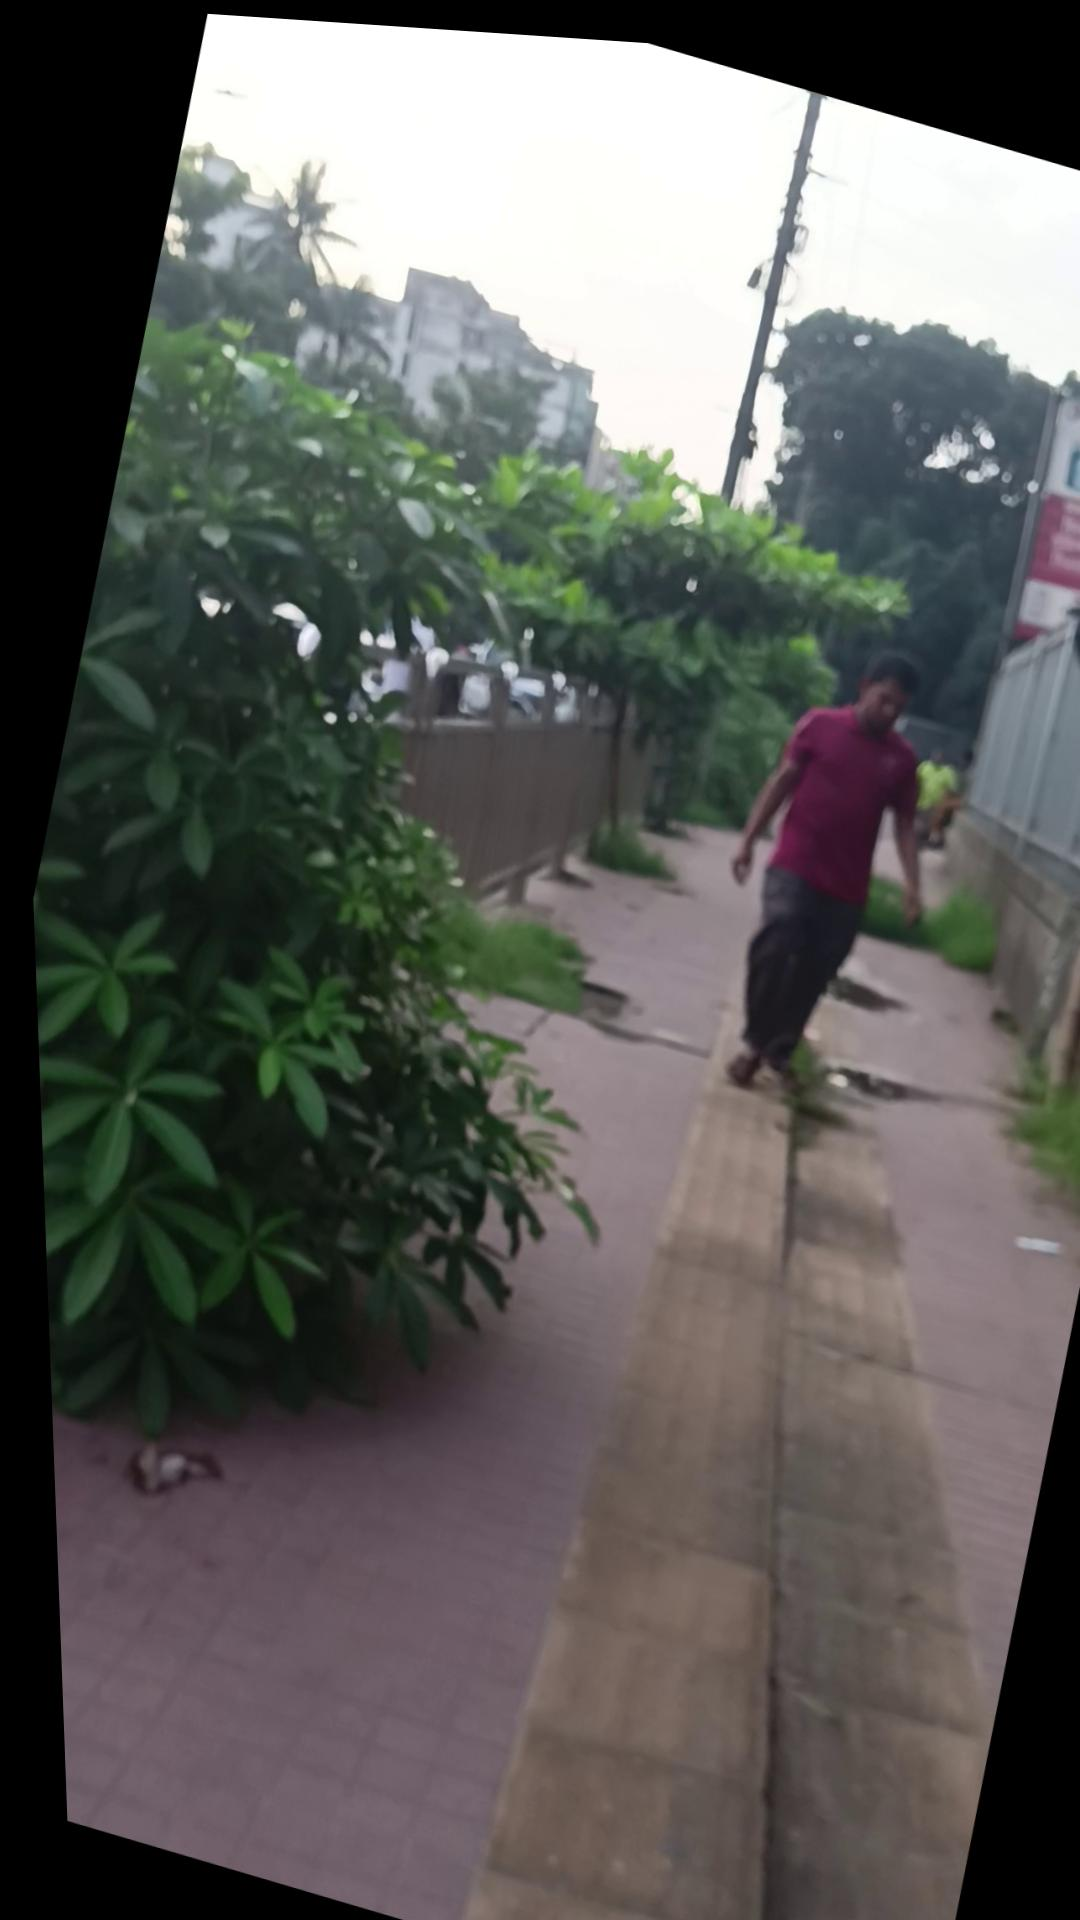Muddy road: (666, 600, 978, 1121), (891, 727, 961, 839)
Obstacle: (698, 71, 837, 508), (1009, 447, 1080, 1097)
Potted-plant: (16, 551, 1080, 1920)
